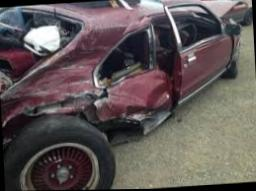Door: (87, 10, 239, 133)
Fender: (2, 67, 97, 136)
Windshield: (0, 8, 83, 87)
